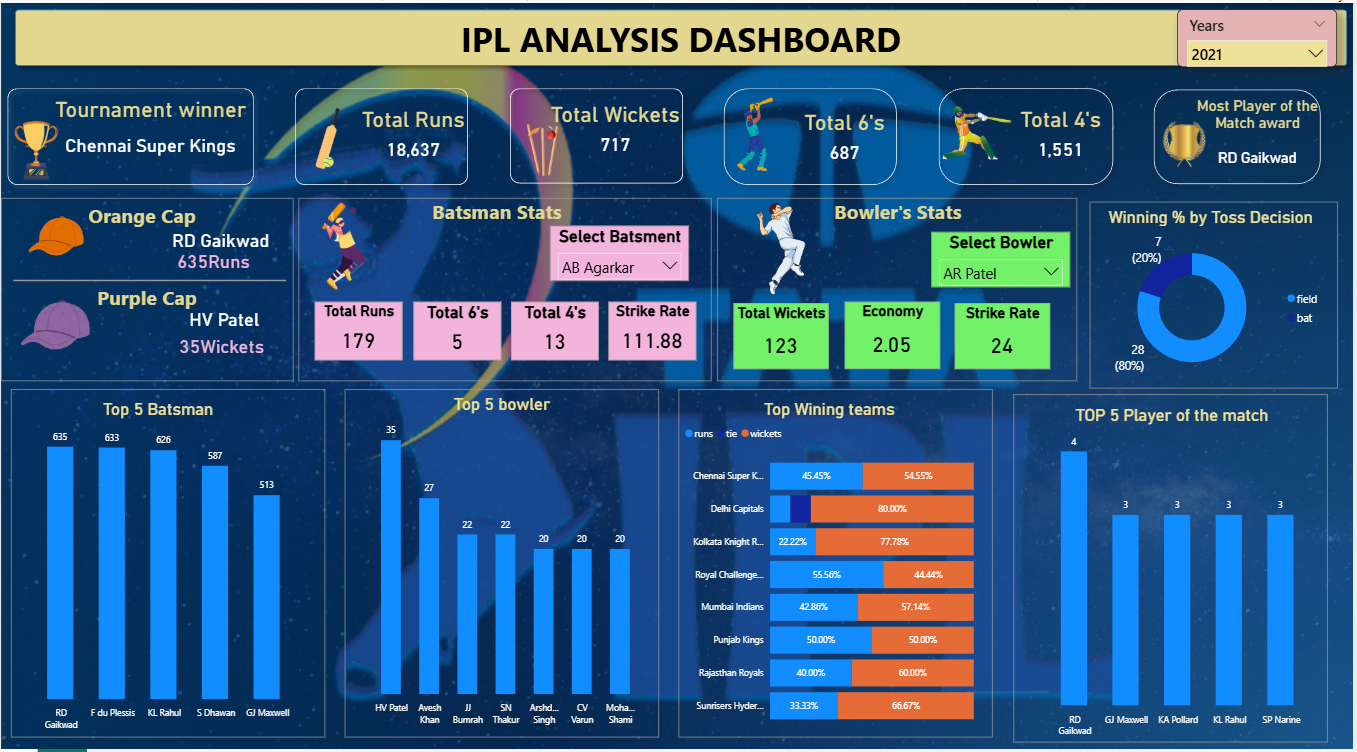

Layout of this report page (visuals, bound fields, positions):
{"tool":"powerbi","page":{"name":"Page 1","canvas":[1850,1020],"ordinal":0},"visuals":[{"type":"shape","box":[10.4,0,1839.2,95],"z":0},{"type":"shape","box":[0,108.4,354.5,150.1],"z":1000},{"type":"shape","box":[393.3,108.4,254.4,150.1],"z":2000},{"type":"shape","box":[979.6,108.4,254.4,150.1],"z":3000},{"type":"shape","box":[686.5,108.4,254.4,148.1],"z":4000},{"type":"shape","box":[1272.8,108.4,256.5,150.1],"z":5000},{"type":"shape","box":[1567.6,109.1,246,147.2],"z":6000},{"type":"slicer","fields":{"Values":["Date_Table.Years"]},"box":[1608.3,8.3,218.8,79.2],"z":7000},{"type":"card","title":"Tournament winner","fields":{"Values":["deliveries.TournamentWinner"]},"box":[66.7,127.8,275.9,98.1],"z":8000},{"type":"card","title":"Total Runs","fields":{"Values":["Sum(deliveries.total_runs)"]},"box":[444.4,142.6,238.9,79.6],"z":9000},{"type":"card","title":"Total Wickets","fields":{"Values":["Sum(deliveries.is_wicket)"]},"box":[740.7,135.2,200,79.6],"z":10000},{"type":"card","title":"Total 6''s","fields":{"Values":["CountNonNull(deliveries.batsman_runs)"]},"box":[1033.3,144.4,238.9,81.5],"z":11000},{"type":"card","title":"Total 4''s","fields":{"Values":["CountNonNull(deliveries.batsman_runs)"]},"box":[1329.6,142.6,238.9,79.6],"z":12000},{"type":"card","title":"Most Player of the Match award ","fields":{"Values":["Min(matches.player_of_match)"]},"box":[1614.8,127.8,205.6,120.4],"z":13000},{"type":"shape","box":[0,266.7,400,250],"z":14000},{"type":"shape","box":[16.7,360.4,372.9,37.5],"z":15000},{"type":"card","fields":{"Values":["Min(deliveries.batter)"]},"box":[220.8,300,160.4,45.8],"z":16000},{"type":"textbox","box":[114.6,266.7,170.8,47.9],"z":17000},{"type":"textbox","box":[114.6,379.2,170.8,47.9],"z":18000},{"type":"card","fields":{"Values":["deliveries.Orange_cap"]},"box":[227.1,329.2,127.1,45.8],"z":19000},{"type":"card","fields":{"Values":["Min(deliveries.bowler)"]},"box":[231.2,408.3,150,45.8],"z":20000},{"type":"card","fields":{"Values":["deliveries.Puple_cap"]},"box":[227.1,445.8,150,45.8],"z":21000},{"type":"shape","box":[979.2,266.7,491.7,250],"z":22000},{"type":"shape","box":[406.2,266.7,564.6,250],"z":23000},{"type":"slicer","title":"Select Batsment","fields":{"Values":["deliveries.batter"]},"box":[750,303.7,190.7,75.9],"z":24000},{"type":"card","title":"Total Runs","fields":{"Values":["Sum(deliveries.batsman_runs)"]},"box":[429.2,408.3,120,80],"z":25000},{"type":"card","title":"Total 6''s","fields":{"Values":["CountNonNull(deliveries.batsman_runs)"]},"box":[564.6,408.3,120,80],"z":26000},{"type":"card","title":"Total 4''s","fields":{"Values":["CountNonNull(deliveries.batsman_runs)"]},"box":[697.9,408.3,120,80],"z":27000},{"type":"card","title":"Strike Rate","fields":{"Values":["deliveries.Batsman strike rate"]},"box":[831.2,408.3,120,80],"z":28000},{"type":"slicer","title":"Select Bowler","fields":{"Values":["deliveries.bowler"]},"box":[1272.2,313,190.7,75.9],"z":29000},{"type":"card","title":"Total Wickets","fields":{"Values":["Sum(deliveries.is_wicket)"]},"box":[1002.1,410,130,90],"z":30000},{"type":"card","title":"Economy","fields":{"Values":["deliveries.economy"]},"box":[1153.1,408.3,130,91.7],"z":31000},{"type":"card","title":"Strike Rate","fields":{"Values":["deliveries.bowler strike rate"]},"box":[1304.2,410,130,90],"z":32000},{"type":"textbox","box":[550,261.1,255.6,53.7],"z":33000},{"type":"textbox","box":[1125.9,261.1,200,53.7],"z":34000},{"type":"shape","box":[1488.9,272.2,338.9,255.6],"z":35000},{"type":"donutChart","title":"Winning % by Toss Decision","fields":{"Category":["matches.toss_decision"],"Y":["CountNonNull(matches.winner)"]},"box":[1494.4,277.8,320.4,250],"z":36000},{"type":"shape","box":[13,527.8,429.6,475.9],"z":37000},{"type":"columnChart","title":"Top 5 Batsman","fields":{"Category":["deliveries.batter"],"Y":["Sum(deliveries.batsman_runs)"]},"box":[11.1,542.6,405.6,461.1],"z":38000},{"type":"shape","box":[470.4,527.8,429.6,475.9],"z":39000},{"type":"columnChart","title":"Top 5 bowler","fields":{"Category":["deliveries.bowler"],"Y":["Sum(deliveries.is_wicket)"]},"box":[481.5,535.2,405.6,461.1],"z":40000},{"type":"shape","box":[925.9,527.8,429.6,475.9],"z":41000},{"type":"hundredPercentStackedBarChart","title":"Top Wining teams","fields":{"Category":["matches.winner"],"Series":["matches.result"],"Y":["CountNonNull(matches.winner)"]},"box":[929.6,542.6,405.6,461.1],"z":42000},{"type":"shape","box":[1385.2,535.2,429.6,475.9],"z":43000},{"type":"columnChart","title":"TOP 5 Player of the match","fields":{"Category":["matches.player_of_match"],"Y":["CountNonNull(matches.winner)"]},"box":[1398.1,550,405.6,461.1],"z":44000},{"type":"image","box":[1009.3,274.1,113,125.9],"z":45000},{"type":"image","box":[400,246.3,131.5,172.2],"z":46000},{"type":"image","box":[1283.3,114.8,101.9,131.5],"z":46001},{"type":"image","box":[979.6,113,107.4,133.3],"z":46002},{"type":"image","box":[37,261.1,77.8,114.8],"z":46003},{"type":"image","box":[25.9,400,100,81.5],"z":46004},{"type":"image","box":[690.7,161.1,100,85.2],"z":46005},{"type":"image","box":[381.5,133.3,131.5,103.7],"z":46006},{"type":"image","box":[0,157.4,96.3,88.9],"z":46007},{"type":"image","box":[1581.5,133.3,77.8,122.2],"z":46008}]}

Visuals, with their boxes in screenshot pixels (x1, y1, x2, y2), scaled from the page's 1850x1020 canvas onto the 1357x752 screenshot:
shape: {"left": 8, "top": 0, "right": 1356, "bottom": 70}
shape: {"left": 0, "top": 80, "right": 260, "bottom": 191}
shape: {"left": 288, "top": 80, "right": 475, "bottom": 191}
shape: {"left": 719, "top": 80, "right": 905, "bottom": 191}
shape: {"left": 504, "top": 80, "right": 690, "bottom": 189}
shape: {"left": 934, "top": 80, "right": 1122, "bottom": 191}
shape: {"left": 1150, "top": 80, "right": 1330, "bottom": 189}
slicer - Date_Table.Years: {"left": 1180, "top": 6, "right": 1340, "bottom": 65}
"Tournament winner" card: {"left": 49, "top": 94, "right": 251, "bottom": 167}
"Total Runs" card: {"left": 326, "top": 105, "right": 501, "bottom": 164}
"Total Wickets" card: {"left": 543, "top": 100, "right": 690, "bottom": 158}
"Total 6''s" card: {"left": 758, "top": 106, "right": 933, "bottom": 167}
"Total 4''s" card: {"left": 975, "top": 105, "right": 1151, "bottom": 164}
"Most Player of the Match award " card: {"left": 1184, "top": 94, "right": 1335, "bottom": 183}
shape: {"left": 0, "top": 197, "right": 293, "bottom": 381}
shape: {"left": 12, "top": 266, "right": 286, "bottom": 293}
card - Min(deliveries.batter): {"left": 162, "top": 221, "right": 280, "bottom": 255}
textbox: {"left": 84, "top": 197, "right": 209, "bottom": 232}
textbox: {"left": 84, "top": 280, "right": 209, "bottom": 315}
card - deliveries.Orange_cap: {"left": 167, "top": 243, "right": 260, "bottom": 276}
card - Min(deliveries.bowler): {"left": 170, "top": 301, "right": 280, "bottom": 335}
card - deliveries.Puple_cap: {"left": 167, "top": 329, "right": 277, "bottom": 362}
shape: {"left": 718, "top": 197, "right": 1079, "bottom": 381}
shape: {"left": 298, "top": 197, "right": 712, "bottom": 381}
"Select Batsment" slicer: {"left": 550, "top": 224, "right": 690, "bottom": 280}
"Total Runs" card: {"left": 315, "top": 301, "right": 403, "bottom": 360}
"Total 6''s" card: {"left": 414, "top": 301, "right": 502, "bottom": 360}
"Total 4''s" card: {"left": 512, "top": 301, "right": 600, "bottom": 360}
"Strike Rate" card: {"left": 610, "top": 301, "right": 698, "bottom": 360}
"Select Bowler" slicer: {"left": 933, "top": 231, "right": 1073, "bottom": 287}
"Total Wickets" card: {"left": 735, "top": 302, "right": 830, "bottom": 369}
"Economy" card: {"left": 846, "top": 301, "right": 941, "bottom": 369}
"Strike Rate" card: {"left": 957, "top": 302, "right": 1052, "bottom": 369}
textbox: {"left": 403, "top": 192, "right": 591, "bottom": 232}
textbox: {"left": 826, "top": 192, "right": 973, "bottom": 232}
shape: {"left": 1092, "top": 201, "right": 1341, "bottom": 389}
"Winning % by Toss Decision" donutChart: {"left": 1096, "top": 205, "right": 1331, "bottom": 389}
shape: {"left": 10, "top": 389, "right": 325, "bottom": 740}
"Top 5 Batsman" columnChart: {"left": 8, "top": 400, "right": 306, "bottom": 740}
shape: {"left": 345, "top": 389, "right": 660, "bottom": 740}
"Top 5 bowler" columnChart: {"left": 353, "top": 395, "right": 651, "bottom": 735}
shape: {"left": 679, "top": 389, "right": 994, "bottom": 740}
"Top Wining teams" hundredPercentStackedBarChart: {"left": 682, "top": 400, "right": 979, "bottom": 740}
shape: {"left": 1016, "top": 395, "right": 1331, "bottom": 745}
"TOP 5 Player of the match" columnChart: {"left": 1026, "top": 405, "right": 1323, "bottom": 745}
image: {"left": 740, "top": 202, "right": 823, "bottom": 295}
image: {"left": 293, "top": 182, "right": 390, "bottom": 309}
image: {"left": 941, "top": 85, "right": 1016, "bottom": 182}
image: {"left": 719, "top": 83, "right": 797, "bottom": 182}
image: {"left": 27, "top": 192, "right": 84, "bottom": 277}
image: {"left": 19, "top": 295, "right": 92, "bottom": 355}
image: {"left": 507, "top": 119, "right": 580, "bottom": 182}
image: {"left": 280, "top": 98, "right": 376, "bottom": 175}
image: {"left": 0, "top": 116, "right": 71, "bottom": 182}
image: {"left": 1160, "top": 98, "right": 1217, "bottom": 188}
